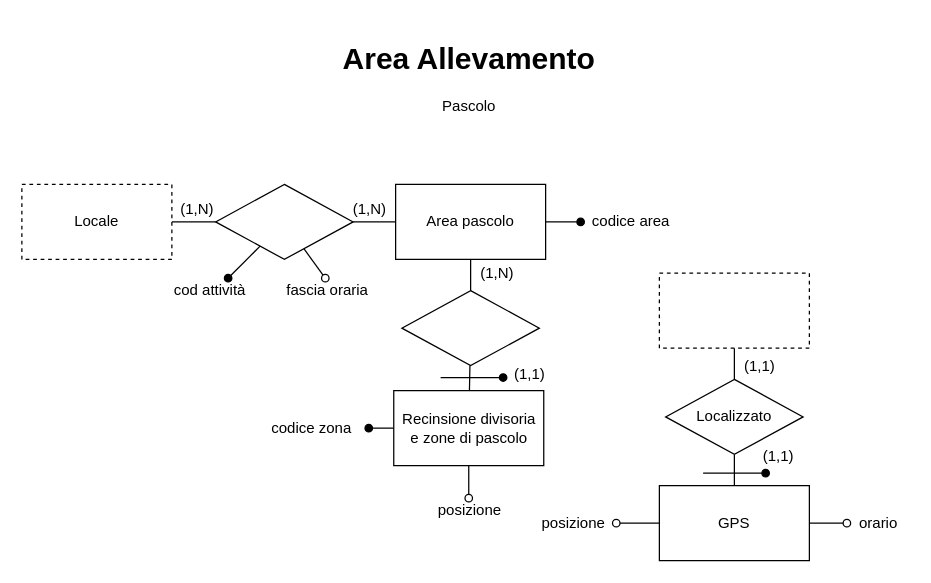
Image size: 931x583. Some labels were removed from this diagram. The shapes that lost their labels are listed below. From the top down, each one's centre as x and y in pixels, then its label:
point (283, 221): Attività di pascolo
point (470, 327): Divisione pascolo
point (733, 310): Animale
